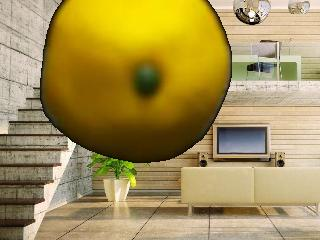lemon: (43, 1, 228, 168)
